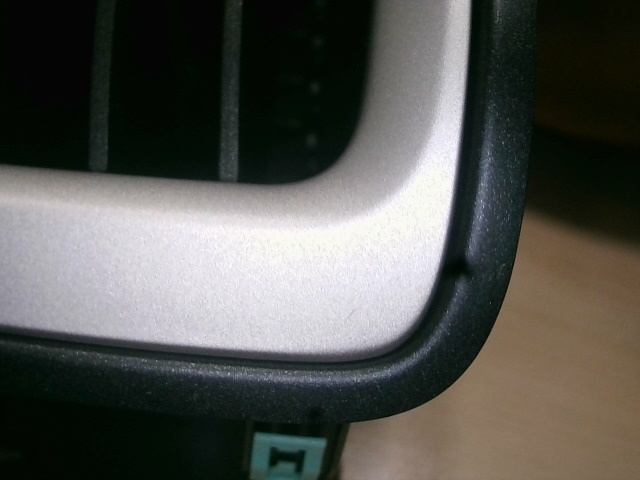NG: (337, 304, 364, 325), (495, 257, 509, 280)
